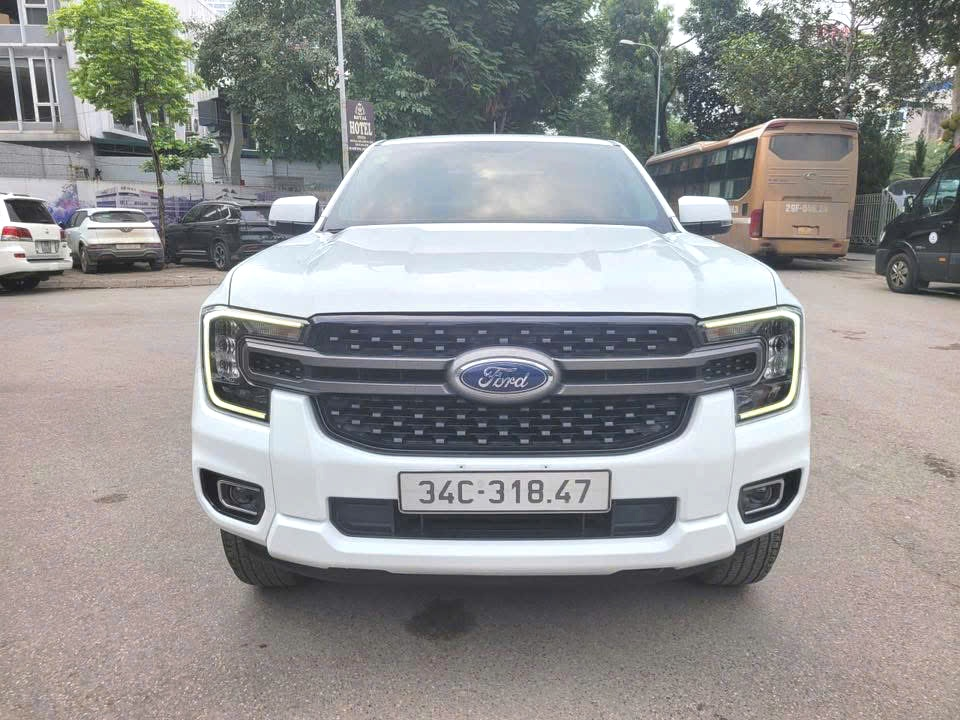Bien-so: (407, 475, 628, 529)
